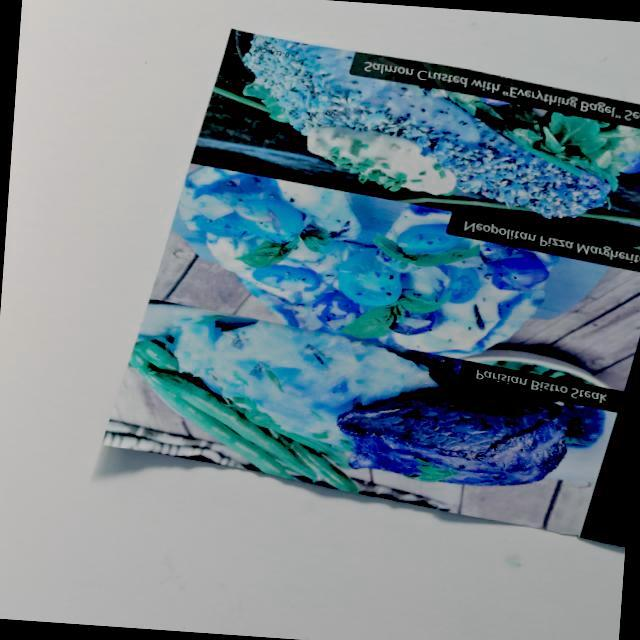paper: (66, 11, 640, 558)
